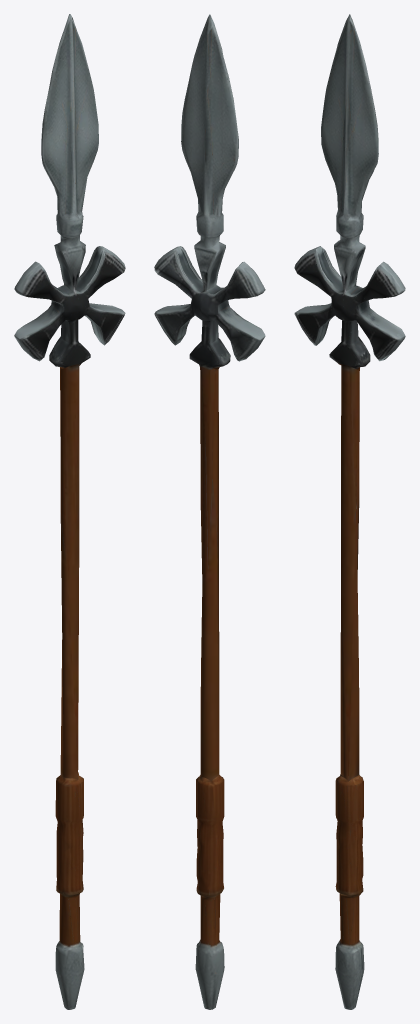
File: wpn_giao-dv.glb
3 views of the same model, side by side, from view 1: azimuth 30°, elevation 25°; view 2: azimuth 150°, elevation 25°; view 3: azimuth 330°, elevation 25° (orthographic).
Bounding box in the file's own units: 0.215 × 1.9 × 0.062.
Materials: 1 (1 with a texture image).
